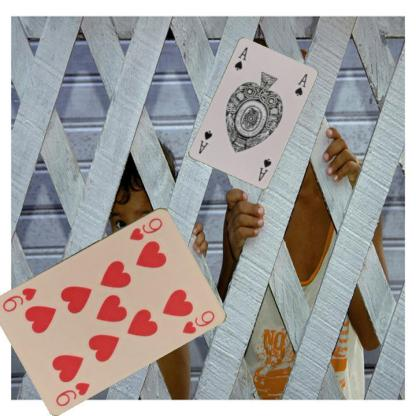9h: (53, 379, 91, 407), (127, 214, 164, 242)
As: (255, 155, 273, 182), (232, 44, 248, 72)
